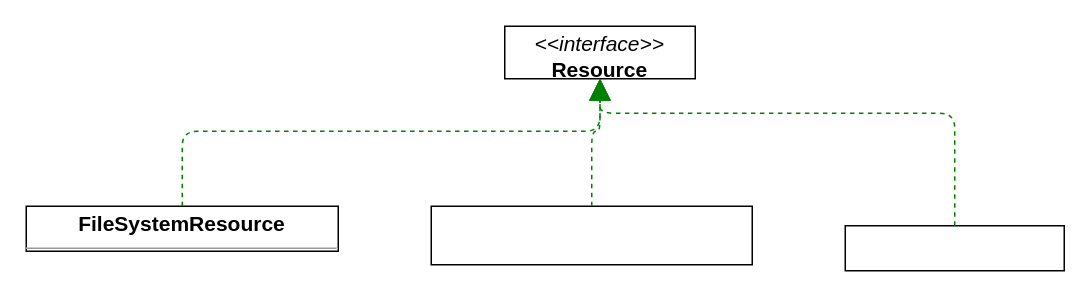
Image size: 1091x297. Some labels were removed from this diagram. The shapes that lost their labels are listed below. From the top down, each one's centre as x and y in pixels, then its label:
At [591,235]: "ClassPathResource".
At [954,247]: "UrlResource".
